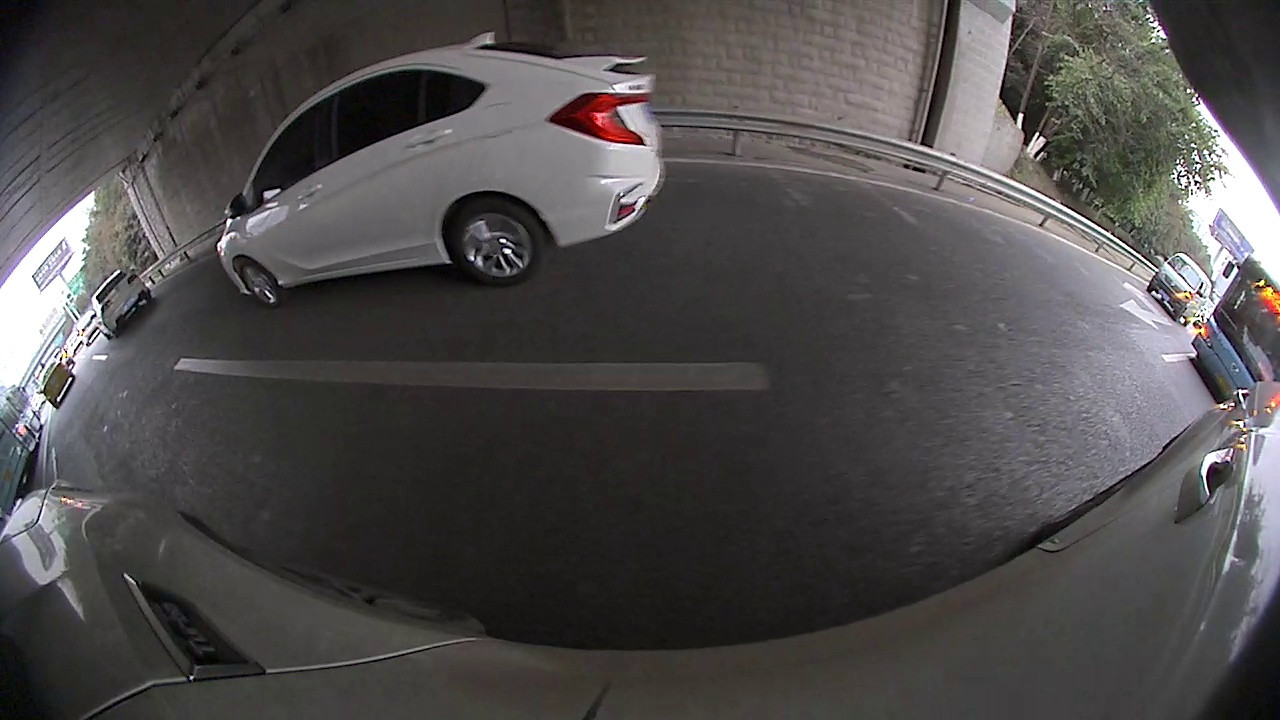bus: (919, 2, 1225, 370)
car: (165, 128, 306, 234), (63, 224, 159, 322), (1188, 376, 1251, 465)
front: (220, 179, 247, 211)
rear: (1115, 315, 1161, 371), (171, 207, 195, 235)
